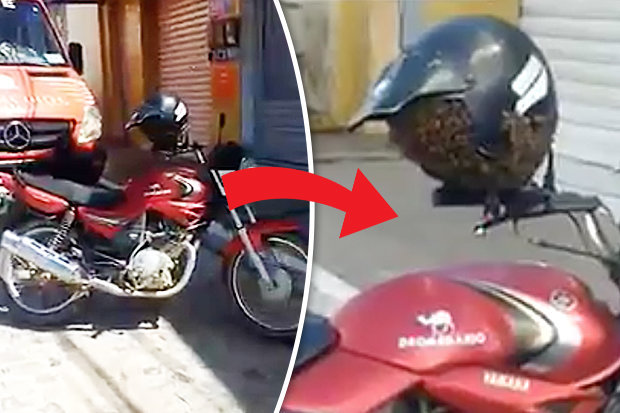with_helmet: (123, 90, 193, 152)
